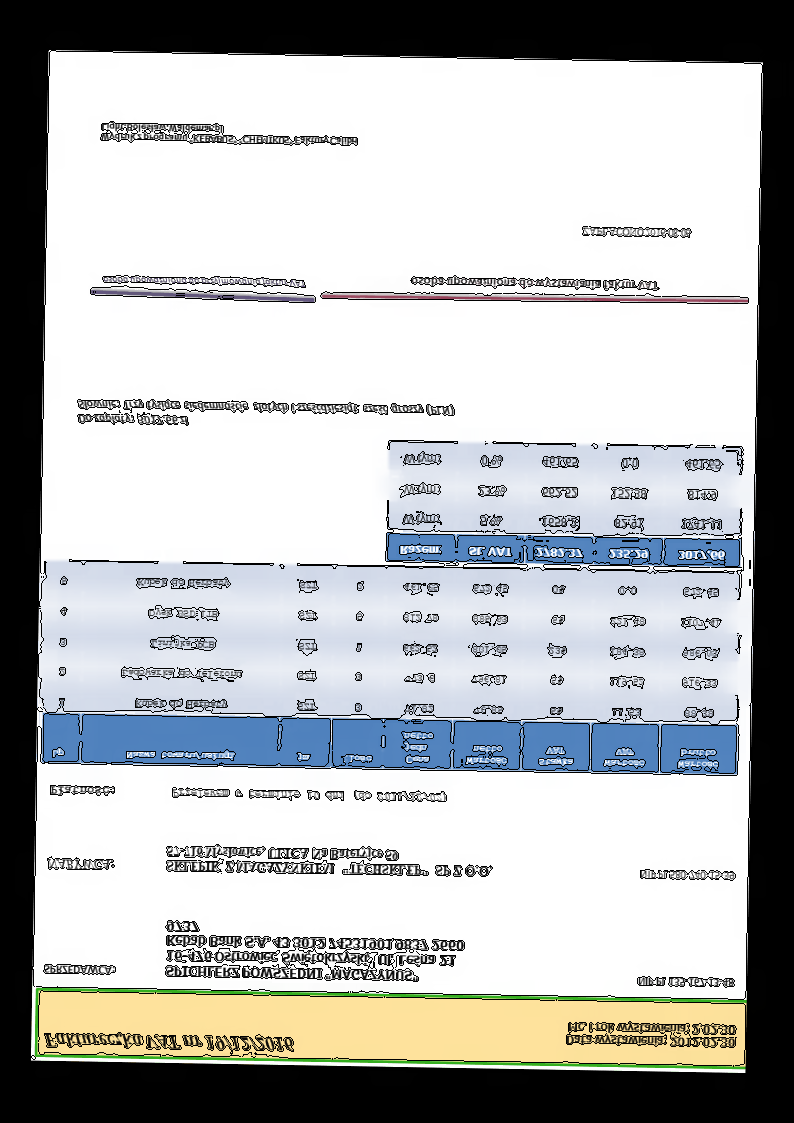Table: (40, 558, 743, 778), (385, 439, 744, 568)
TextBox: (163, 919, 467, 985), (75, 395, 456, 433), (165, 842, 493, 880), (99, 121, 361, 149), (42, 1028, 296, 1055), (170, 784, 448, 807), (564, 1020, 737, 1051), (408, 273, 658, 294), (100, 271, 307, 290), (579, 224, 693, 241), (638, 866, 736, 883), (636, 975, 737, 991), (44, 856, 116, 875), (42, 962, 115, 978), (48, 784, 119, 799)
